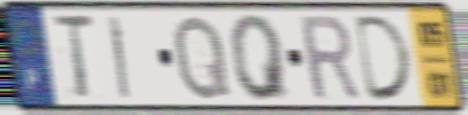D: (353, 13, 417, 104)
I: (106, 14, 133, 101)
Q: (226, 12, 293, 104), (171, 12, 234, 104)
R: (296, 12, 364, 104)
T: (48, 12, 98, 103)
